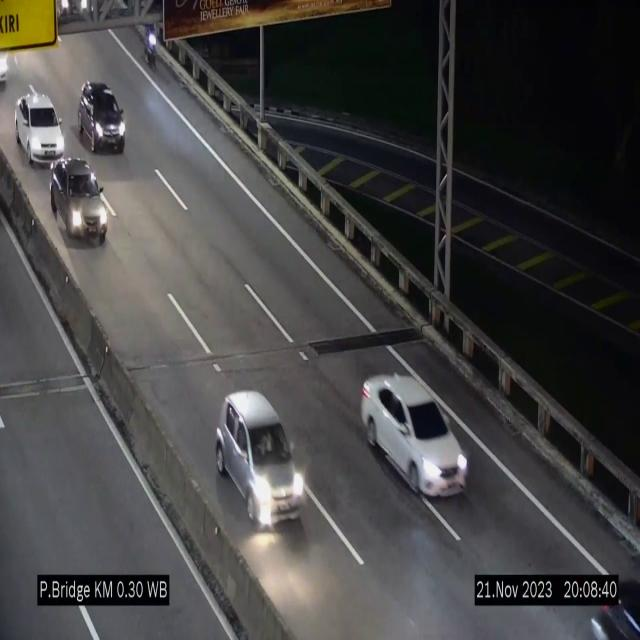Car: (360, 373, 468, 495), (215, 391, 306, 526), (51, 156, 107, 245), (15, 92, 66, 164), (78, 82, 125, 153)
Motorcycle: (144, 19, 160, 78)
